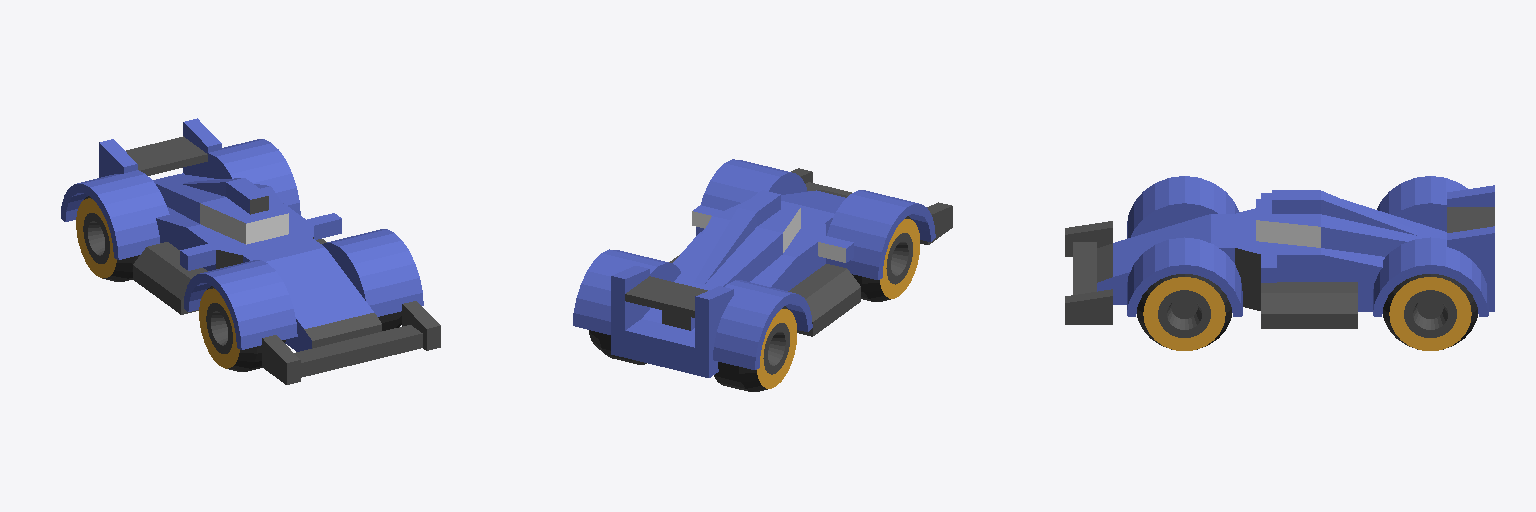
The model's file is raceFuture.obj.
3 views of the same model, side by side, from view 1: azimuth 30°, elevation 25°; view 2: azimuth 150°, elevation 25°; view 3: azimuth 270°, elevation 25° (orthographic).
Parts seen in each view (by area): view 1: body, wheel_frontRight, wheel_backRight; view 2: body, wheel_backRight, wheel_frontRight; view 3: body, wheel_backLeft, wheel_frontLeft.
Part boxes in pixels (bbox=[...]): body: bbox=[61, 118, 440, 384]; wheel_frontRight: bbox=[199, 286, 285, 371]; wheel_backRight: bbox=[76, 196, 139, 281]; body: bbox=[573, 159, 952, 377]; wheel_backRight: bbox=[714, 306, 796, 391]; wheel_frontRight: bbox=[852, 216, 919, 301]; body: bbox=[1065, 176, 1494, 328]; wheel_backLeft: bbox=[1383, 274, 1477, 350]; wheel_frontLeft: bbox=[1137, 274, 1231, 350].
Size of the model in its own units: 1.3 by 0.8325 by 2.66.